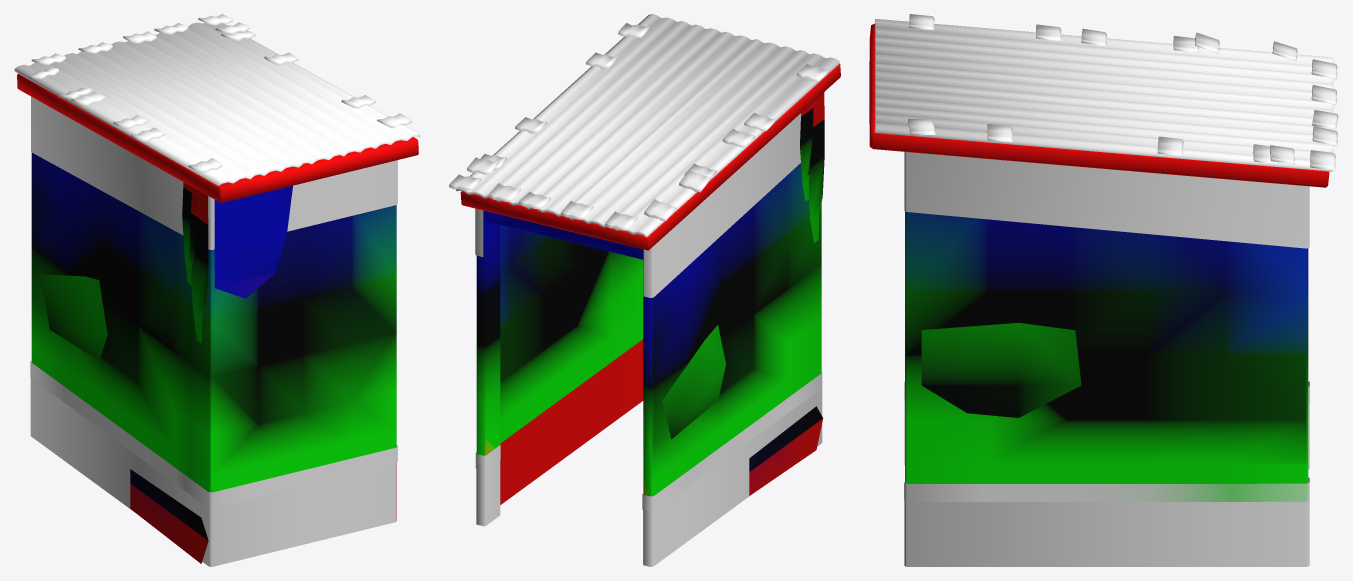
The model's file is ExtraBuilding_D_Snaps004.FBX.
3 views of the same model, side by side, from view 1: azimuth 30°, elevation 25°; view 2: azimuth 150°, elevation 25°; view 3: azimuth 270°, elevation 25° (orthographic). The views are drawn at different scales.
Parts seen in each view (by area): view 1: Geometry_ExtraBuilding_D_LOD00, Geometry_Decal_B_LOD00, Geometry_Decal_C_LOD00; view 2: Geometry_ExtraBuilding_D_LOD00, Geometry_Decal_B_LOD00, Geometry_Decal_C_LOD00; view 3: Geometry_ExtraBuilding_D_LOD00, Geometry_Decal_B_LOD00, Geometry_Decal_C_LOD00.
Boxes of the visible parts, x1,y1,x2,y2 form: Geometry_ExtraBuilding_D_LOD00: (14, 14, 420, 520); Geometry_Decal_B_LOD00: (30, 96, 397, 566); Geometry_Decal_C_LOD00: (40, 182, 292, 563); Geometry_ExtraBuilding_D_LOD00: (449, 14, 840, 504); Geometry_Decal_B_LOD00: (475, 113, 822, 566); Geometry_Decal_C_LOD00: (662, 92, 824, 495); Geometry_ExtraBuilding_D_LOD00: (869, 14, 1338, 565); Geometry_Decal_B_LOD00: (904, 152, 1309, 566); Geometry_Decal_C_LOD00: (921, 322, 1081, 417).
Size of what is drawn, in the model's own units: 174 by 308 by 291.
